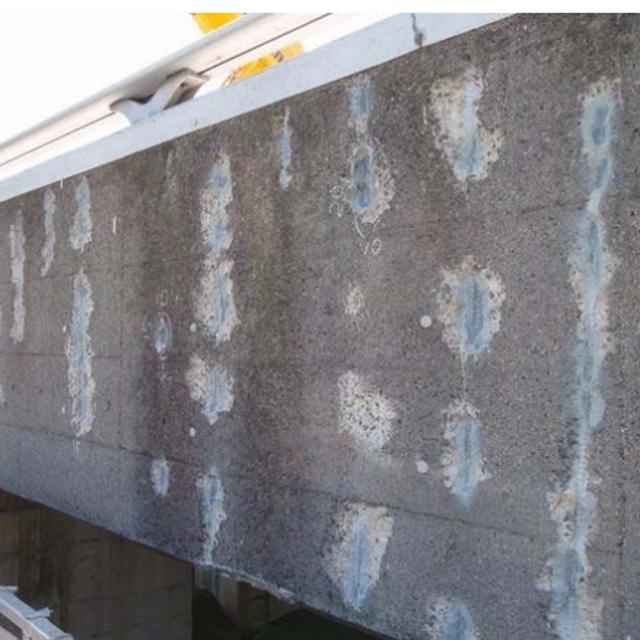spalling: (0, 63, 620, 617)
